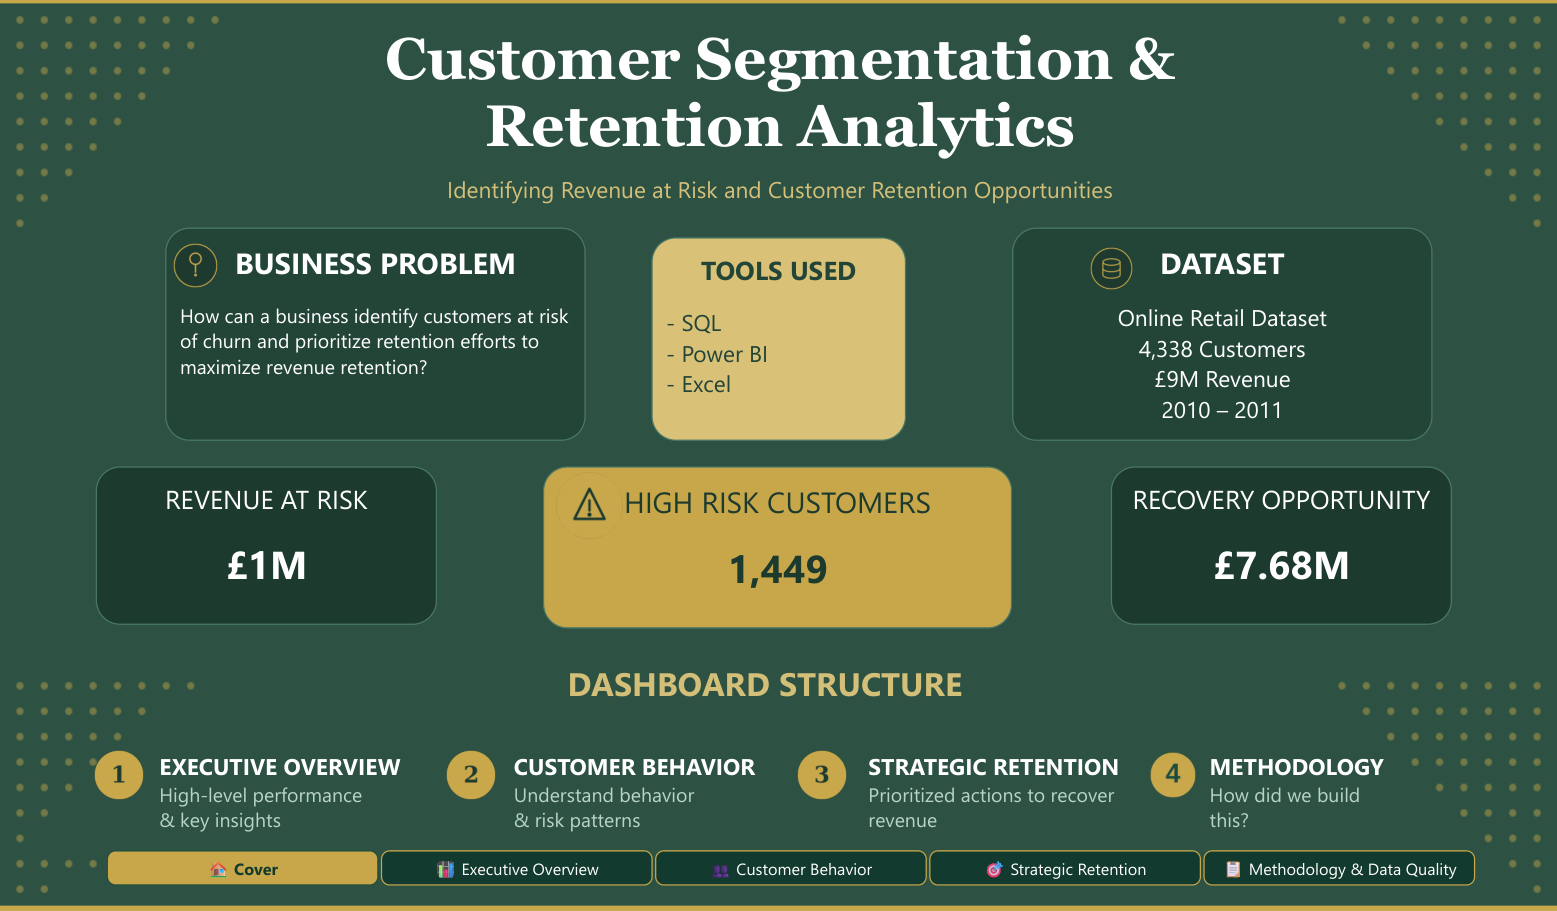

The dashboard page shown, as its layout file describes it:
{"tool":"powerbi","page":{"name":"🏠 Cover  ","canvas":[1280,750],"ordinal":0},"visuals":[{"type":"textbox","box":[185.1,18.1,912.8,122.3],"z":0},{"type":"textbox","box":[137.1,188.7,345,175],"z":1000},{"type":"textbox","box":[536.1,196.9,209.3,167],"z":2000},{"type":"textbox","box":[832,188.7,345,175],"z":3000},{"type":"textbox","box":[80,384.5,280,130],"z":4000},{"type":"textbox","box":[447.4,384.5,384.5,133],"z":5000},{"type":"textbox","box":[913,384.5,280,130],"z":6000},{"type":"textbox","box":[160.5,539.1,937.2,52.3],"z":7000},{"type":"textbox","box":[127.1,612.5,226,84.4],"z":8000},{"type":"image","box":[61.5,612.5,75,50],"z":9000},{"type":"textbox","box":[417.7,612.5,219.8,81.2],"z":10000},{"type":"textbox","box":[709.4,612.5,227.1,79.2],"z":11000},{"type":"image","box":[349.7,612.5,75,50],"z":12000},{"type":"image","box":[637.9,612.5,75,50],"z":13000},{"type":"textbox","box":[184.5,140.2,913.4,42.3],"z":14000},{"type":"image","box":[447.4,384.5,75.3,64.9],"z":15000},{"type":"image","box":[890.7,196.9,45.4,50.5],"z":16000},{"type":"image","box":[139.2,196.9,45.4,46.4],"z":17000},{"type":"image","box":[926.1,612.5,75,50],"z":18000},{"type":"textbox","box":[988.5,612.5,166.7,87.5],"z":19000},{"type":"pageNavigator","box":[88.5,700,1124,29.2],"z":20000}]}

Visuals, with their boxes in screenshot pixels (x1, y1, x2, y2), scaled from the page's 1280x750 canvas onto the 1557x911 screenshot:
textbox: region(225, 22, 1335, 171)
textbox: region(167, 229, 586, 442)
textbox: region(652, 239, 907, 442)
textbox: region(1012, 229, 1432, 442)
textbox: region(97, 467, 438, 625)
textbox: region(544, 467, 1012, 629)
textbox: region(1111, 467, 1451, 625)
textbox: region(195, 655, 1335, 718)
textbox: region(155, 744, 430, 847)
image: region(75, 744, 166, 805)
textbox: region(508, 744, 775, 843)
textbox: region(863, 744, 1139, 840)
image: region(425, 744, 517, 805)
image: region(776, 744, 867, 805)
textbox: region(224, 170, 1335, 222)
image: region(544, 467, 636, 546)
image: region(1083, 239, 1139, 301)
image: region(169, 239, 225, 296)
image: region(1127, 744, 1218, 805)
textbox: region(1202, 744, 1405, 850)
pageNavigator: region(108, 850, 1475, 886)
